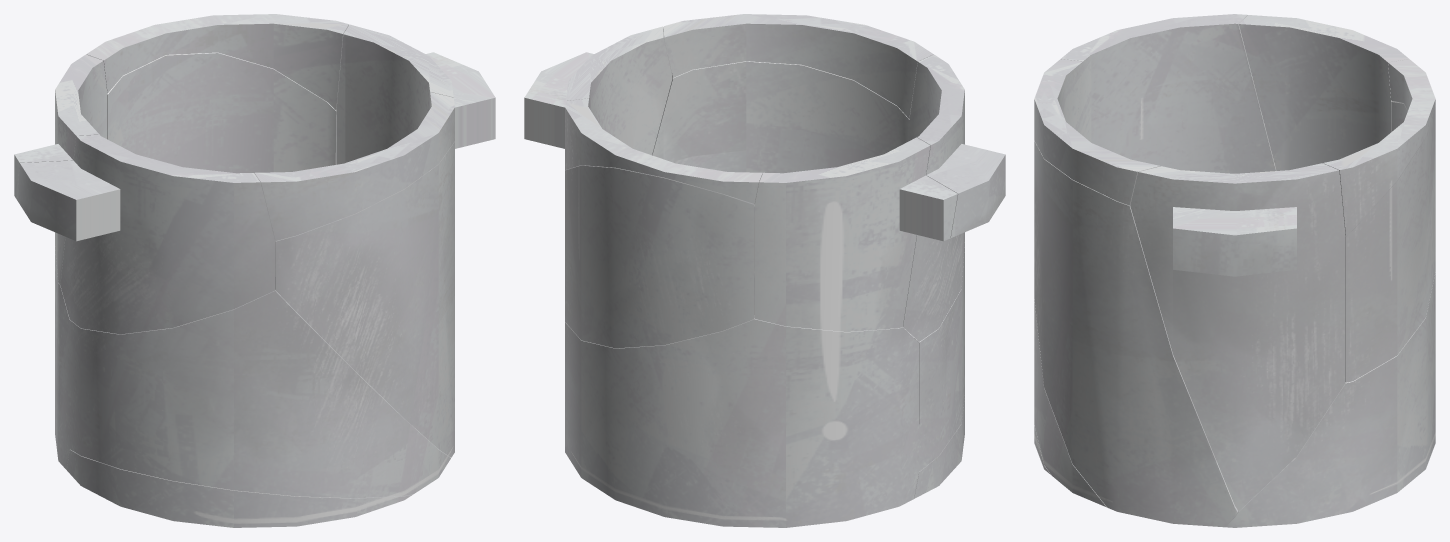
Rendered from PotBreak.fbx.
The picture shows the model from 3 angles, left to right: view 1: azimuth 30°, elevation 25°; view 2: azimuth 150°, elevation 25°; view 3: azimuth 270°, elevation 25°; orthographic projection.
Parts seen in each view (by area): view 1: Pot_cell.007, Pot_cell.004, Pot_cell.001, Pot_cell.002, Pot_cell.005, Pot_cell.009, Pot_cell, Pot_cell.003, Pot_cell.008, Pot_cell.006; view 2: Pot_cell.006, Pot_cell.002, Pot_cell.008, Pot_cell.001, Pot_cell, Pot_cell.004, Pot_cell.005, Pot_cell.009, Pot_cell.007, Pot_cell.003; view 3: Pot_cell.005, Pot_cell.001, Pot_cell.004, Pot_cell.006, Pot_cell.008, Pot_cell.002, Pot_cell, Pot_cell.009, Pot_cell.007.
Boxes of the visible parts, x1,y1,x2,y2 form: Pot_cell.007: [69, 290, 450, 498]; Pot_cell.004: [17, 134, 275, 334]; Pot_cell.001: [275, 141, 454, 457]; Pot_cell.002: [107, 52, 336, 173]; Pot_cell.005: [336, 24, 495, 164]; Pot_cell.009: [86, 14, 348, 110]; Pot_cell: [254, 92, 454, 240]; Pot_cell.003: [67, 449, 412, 527]; Pot_cell.008: [14, 54, 107, 284]; Pot_cell.006: [55, 247, 69, 469]; Pot_cell.006: [565, 315, 919, 527]; Pot_cell.002: [565, 165, 754, 348]; Pot_cell.008: [755, 137, 957, 331]; Pot_cell.001: [652, 61, 909, 173]; Pot_cell: [664, 14, 933, 118]; Pot_cell.004: [903, 54, 1005, 341]; Pot_cell.005: [524, 26, 672, 155]; Pot_cell.009: [565, 98, 762, 206]; Pot_cell.007: [905, 243, 964, 471]; Pot_cell.003: [914, 395, 964, 498]; Pot_cell.005: [1130, 163, 1345, 511]; Pot_cell.001: [1034, 141, 1237, 527]; Pot_cell.004: [1061, 14, 1276, 173]; Pot_cell.006: [1225, 272, 1435, 527]; Pot_cell.008: [1239, 15, 1408, 170]; Pot_cell.002: [1345, 101, 1435, 382]; Pot_cell: [1034, 59, 1160, 205]; Pot_cell.009: [1323, 59, 1435, 235]; Pot_cell.007: [1034, 299, 1106, 507].
Size of the model in its own units: 203 by 149 by 158.
